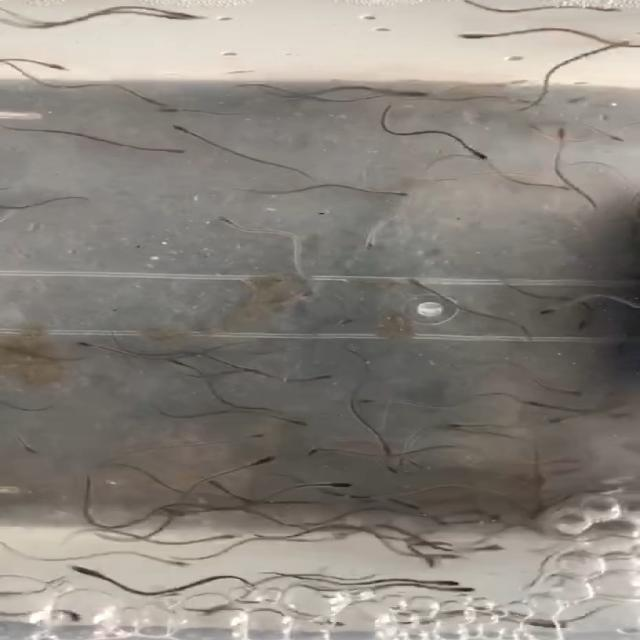active_glass_eel: (2, 441, 60, 464), (378, 84, 433, 106), (512, 300, 565, 322), (44, 560, 94, 582), (56, 606, 102, 629), (362, 491, 428, 506), (161, 505, 227, 520), (160, 123, 202, 146), (458, 27, 495, 52), (398, 551, 446, 570), (456, 544, 513, 560), (116, 84, 172, 100), (240, 452, 282, 472), (554, 318, 600, 336), (196, 212, 246, 228), (176, 553, 218, 572), (398, 274, 444, 290), (302, 366, 338, 386), (598, 36, 628, 59), (197, 476, 235, 494), (422, 511, 462, 528), (348, 528, 390, 544), (434, 416, 470, 434), (296, 448, 344, 461), (356, 229, 387, 249), (287, 416, 319, 435), (387, 185, 430, 199), (607, 132, 640, 150), (363, 392, 398, 408), (596, 341, 631, 357), (440, 580, 483, 593), (284, 290, 323, 304), (142, 107, 184, 120), (323, 475, 353, 493), (415, 578, 469, 588), (150, 148, 193, 160), (543, 124, 576, 139), (68, 341, 112, 352), (365, 446, 405, 458), (328, 315, 366, 327), (212, 530, 242, 545), (457, 153, 507, 162), (529, 468, 566, 480), (164, 356, 196, 369), (0, 586, 25, 602), (130, 4, 180, 12), (128, 8, 177, 16), (376, 466, 413, 476), (239, 430, 276, 440), (550, 382, 578, 395), (538, 402, 567, 413), (41, 66, 78, 74), (584, 6, 629, 12), (546, 415, 567, 426)
